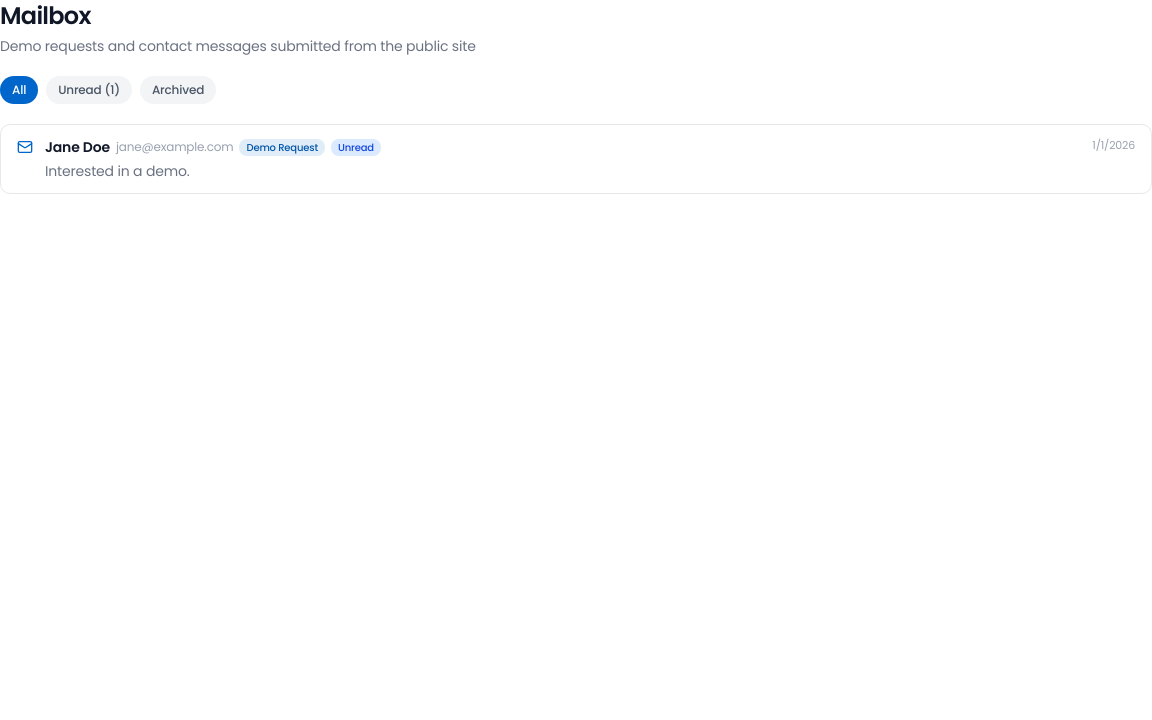
it: MailboxInbox › opening an unread message fetches the detail and marks it read
This screenshot has width=1152, height=720.
Click the text "Jane Doe" at coordinates (77, 147), box [45, 137, 110, 157]
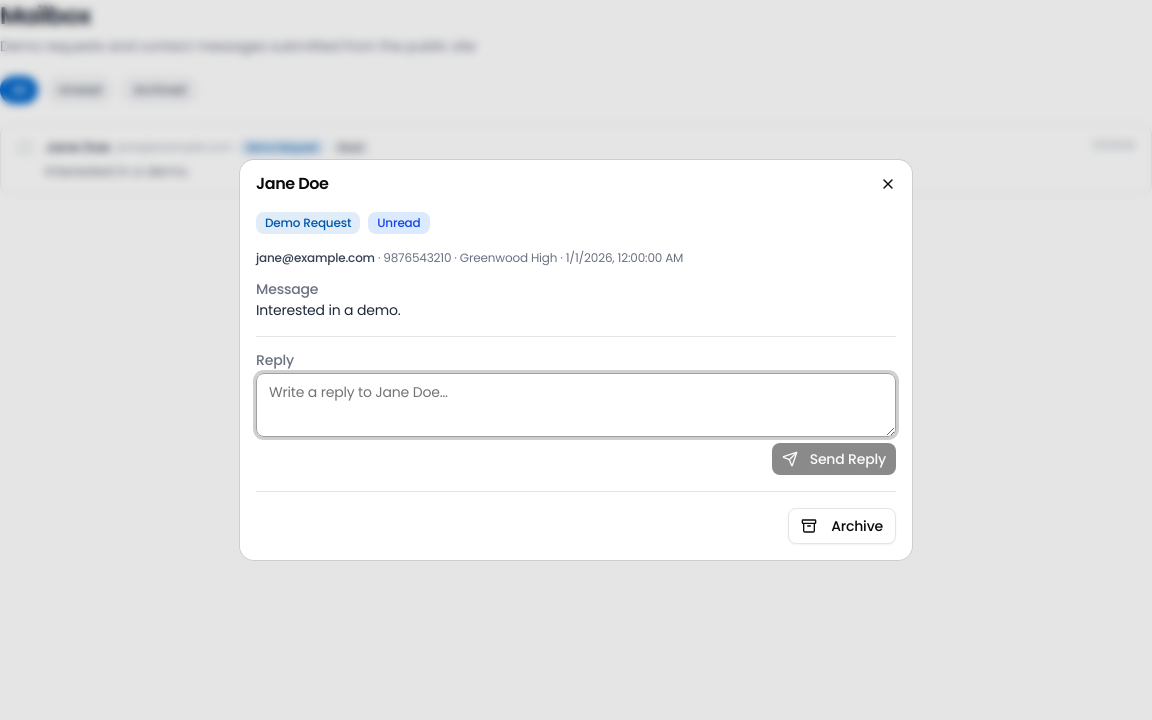
expect the text "Interested in a demo." is shown: met, box [256, 300, 400, 320]
